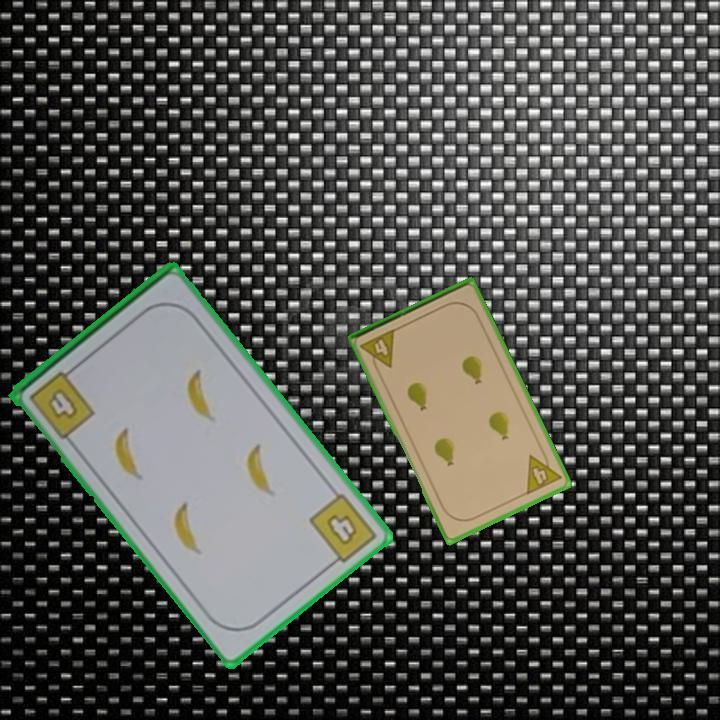4b: (305, 489, 380, 571), (25, 362, 98, 442)
4p: (522, 446, 564, 498), (357, 325, 399, 375)
